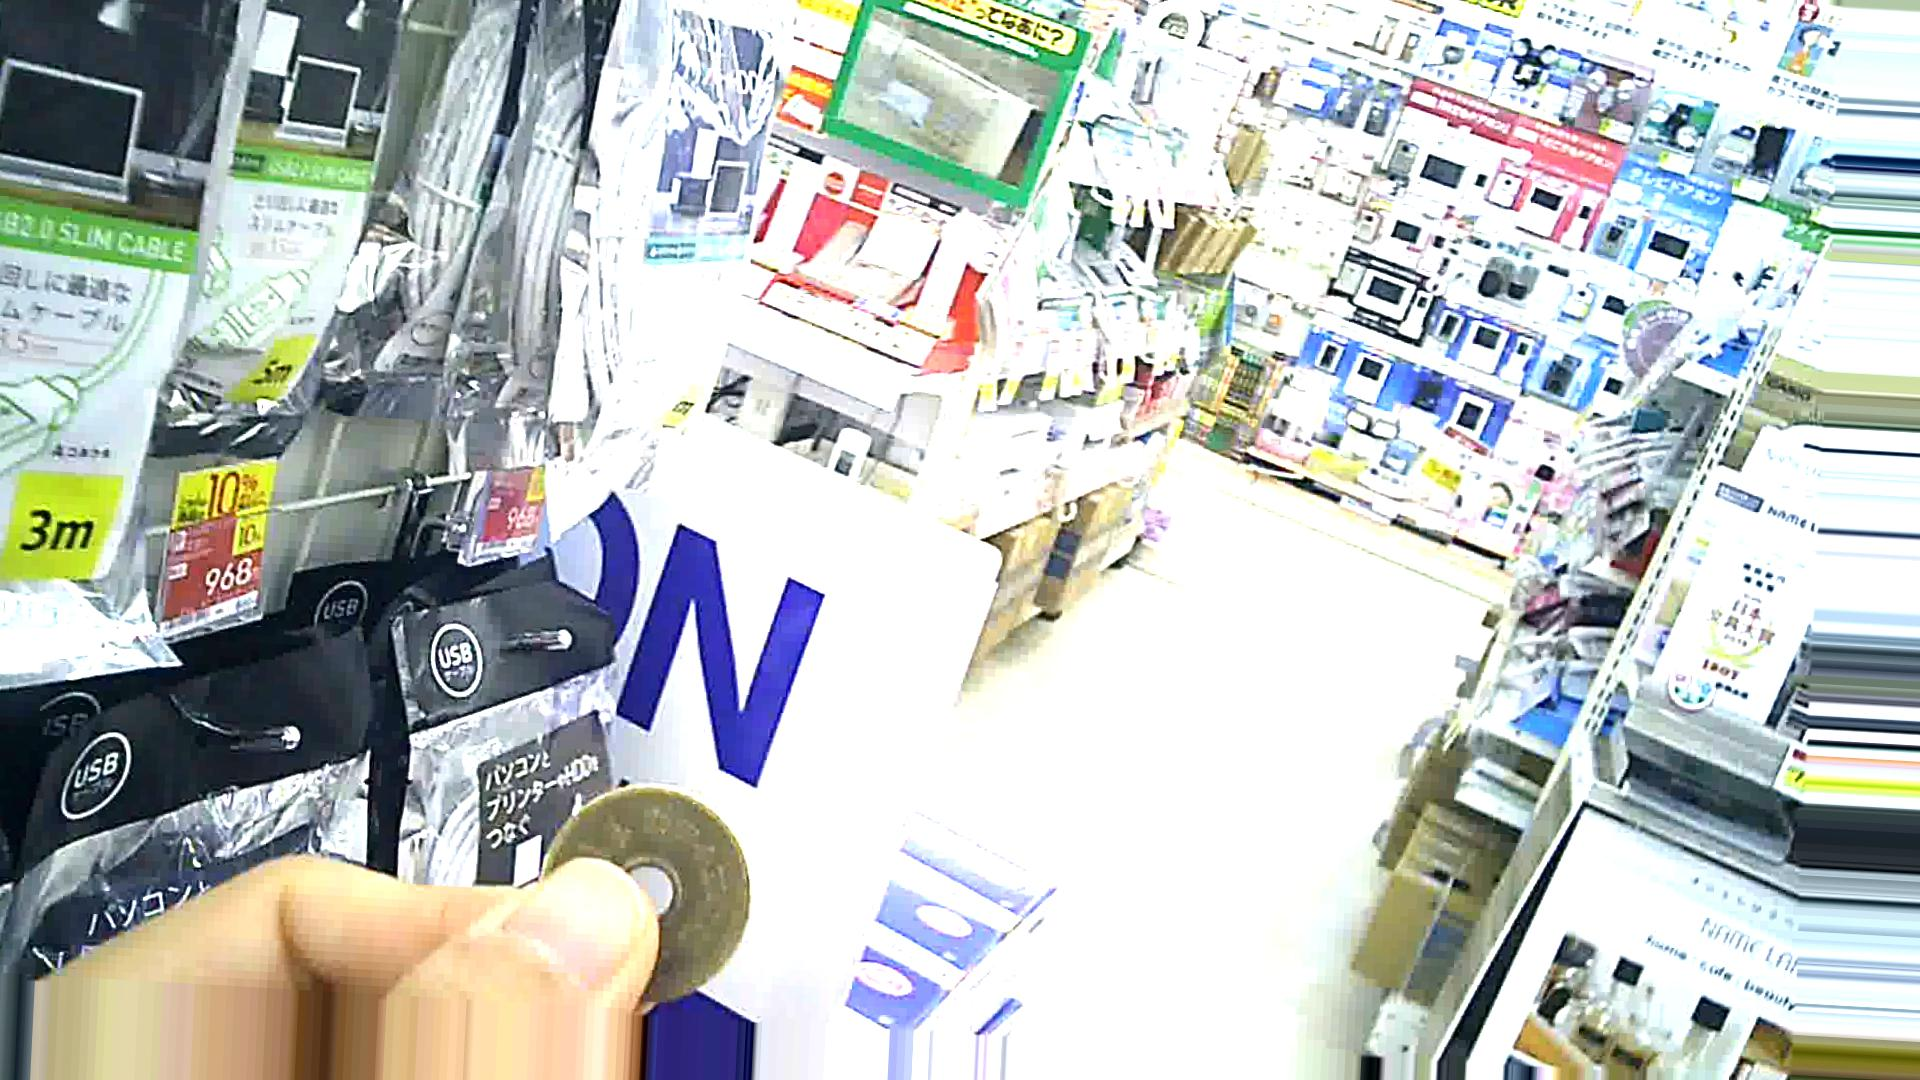5 Yen: (527, 775, 756, 1007)
